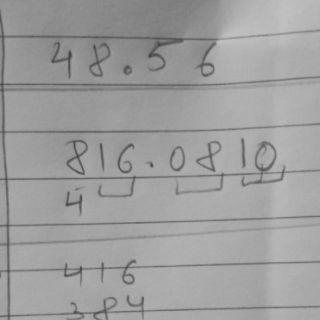.: (121, 62, 135, 78), (146, 157, 155, 170)
0: (254, 138, 279, 173), (169, 143, 187, 174)
1: (235, 136, 249, 170), (96, 141, 110, 174), (95, 255, 108, 286)
4: (49, 37, 76, 81), (62, 186, 87, 216)
5: (147, 39, 184, 74)
6: (196, 40, 222, 79), (116, 137, 138, 175), (120, 257, 138, 285)
8: (63, 134, 89, 176), (195, 140, 224, 174), (87, 38, 111, 79)
